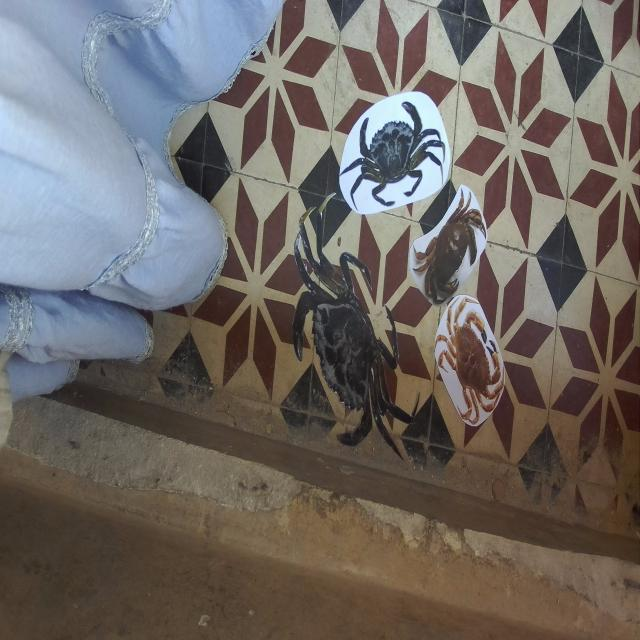European_Green_Crab: (260, 176, 438, 515), (333, 88, 450, 225)
